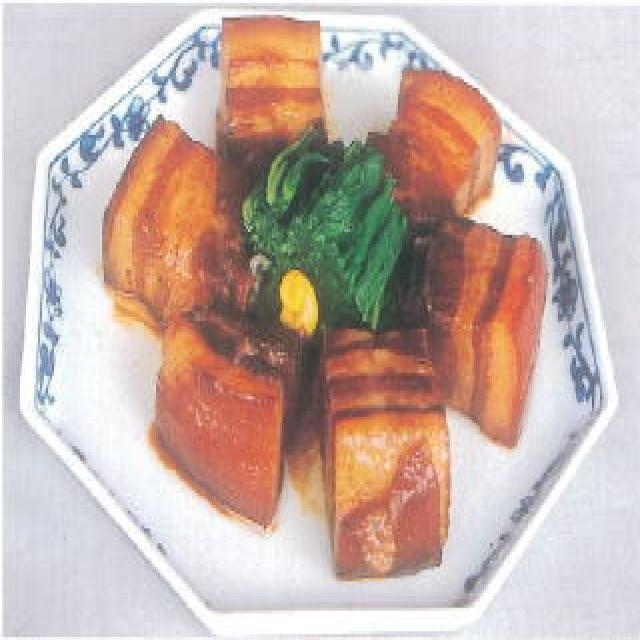猪肉菜式: (16, 0, 624, 640)
